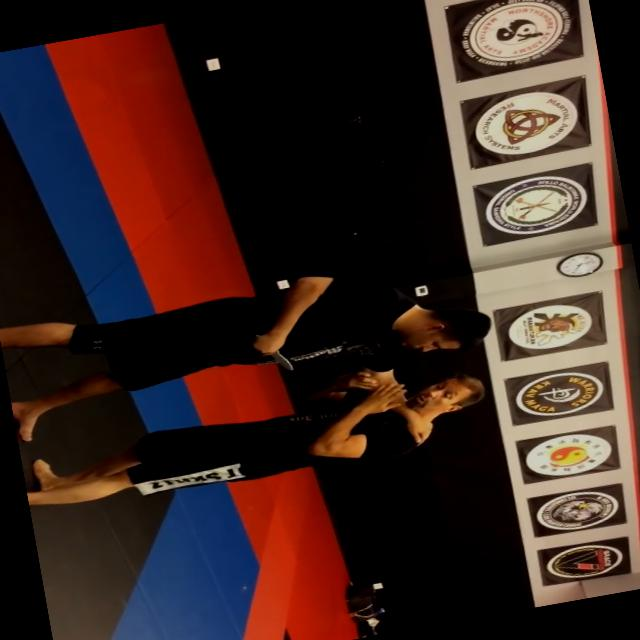knife: (249, 325, 300, 378)
